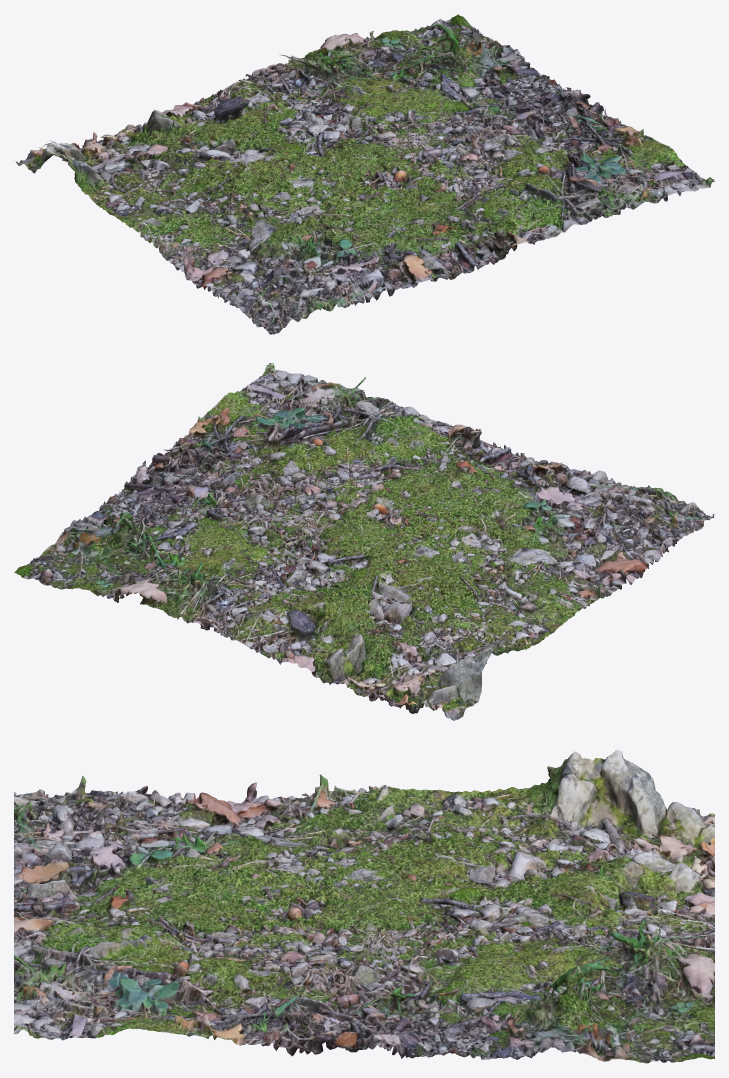
Rendered from ground.glb.
3 renders of one model, top to bottom at view 1: azimuth 30°, elevation 25°; view 2: azimuth 150°, elevation 25°; view 3: azimuth 270°, elevation 25°, orthographic. The views are drawn at different scales.
Visible parts, largest first — view 1: ground_moss_1_100k; view 2: ground_moss_1_100k; view 3: ground_moss_1_100k.
Boxes of the visible parts, bbox=[...] form: ground_moss_1_100k: bbox=[14, 14, 714, 334]; ground_moss_1_100k: bbox=[14, 363, 714, 720]; ground_moss_1_100k: bbox=[14, 749, 714, 1063].
Size of the model in its own units: 1.23 by 0.2309 by 1.23.
Materials: 1 (1 with a texture image).
